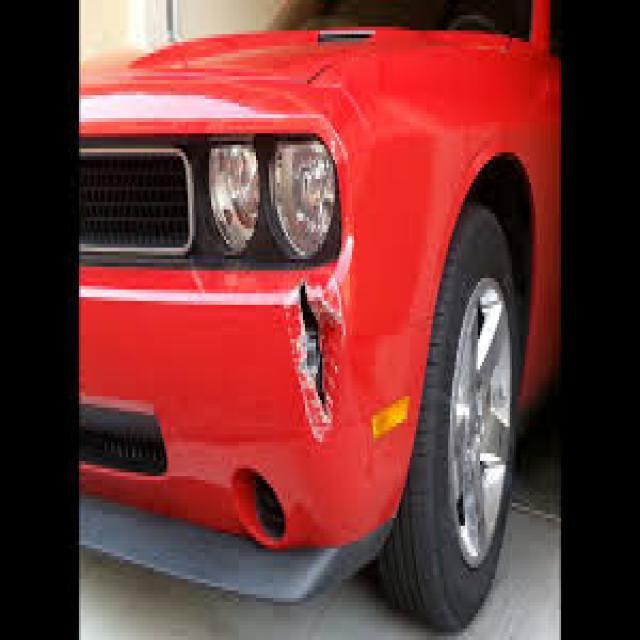front-bumper-dent: (179, 244, 448, 628)
